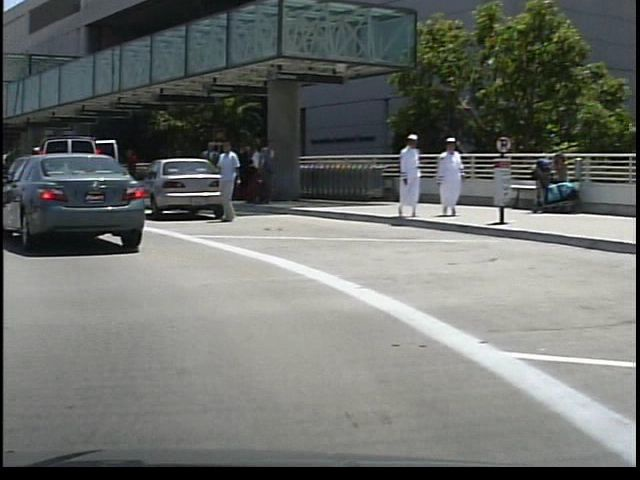person: (209, 134, 245, 228), (430, 131, 464, 219), (389, 129, 420, 220), (248, 137, 272, 207), (116, 143, 139, 208)
